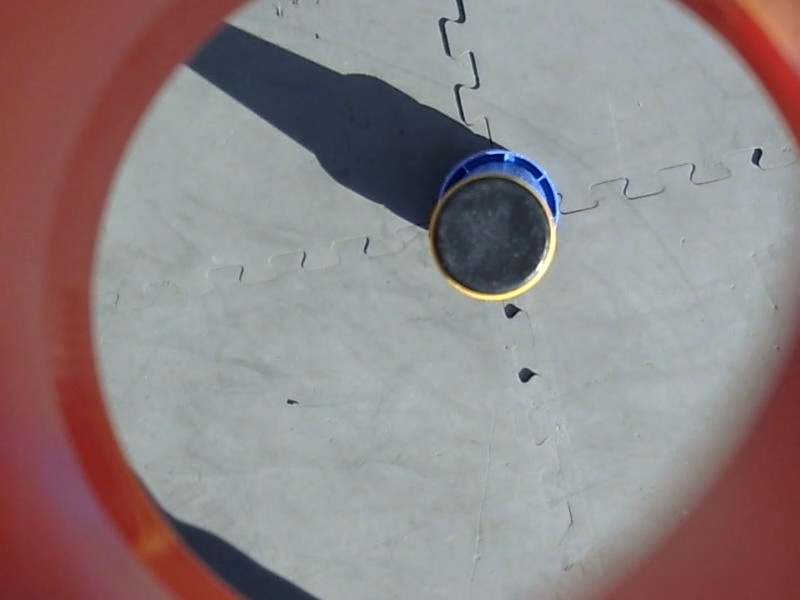tip: (421, 166, 563, 307)
